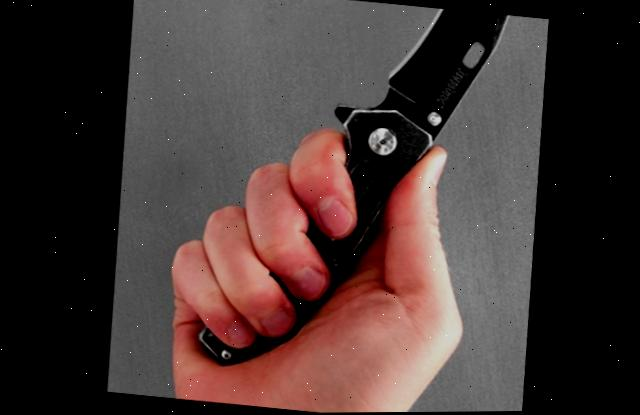pocket-knife: (186, 0, 545, 414)
